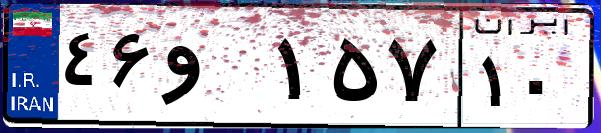0: (525, 38, 570, 115)
1: (270, 28, 330, 110), (475, 38, 525, 113)
4: (57, 26, 110, 100)
5: (330, 28, 385, 110)
6: (110, 28, 158, 98)
7: (385, 28, 445, 110)
و: (158, 20, 270, 120)
